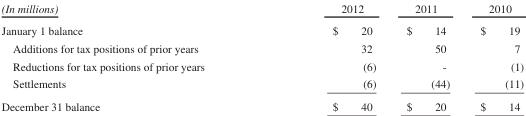table: (0, 1, 523, 112)
table column: (0, 1, 267, 112), (267, 1, 390, 112), (390, 1, 464, 112), (464, 1, 523, 112)
table column header: (0, 1, 523, 19)
table row: (0, 19, 523, 39), (0, 74, 523, 94), (0, 1, 523, 19), (0, 39, 523, 57), (0, 94, 523, 112), (0, 57, 523, 74)
